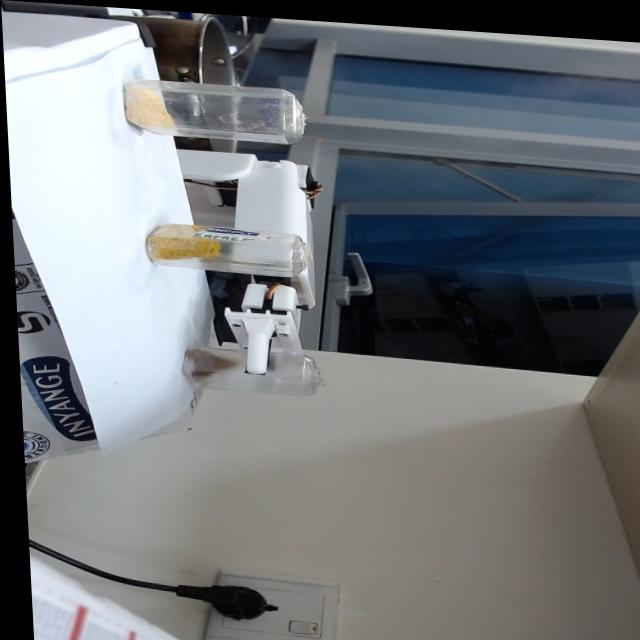curry_powder: (137, 219, 219, 263)
garlic_powder: (119, 86, 162, 128)
maggie_open: (176, 344, 233, 377)
